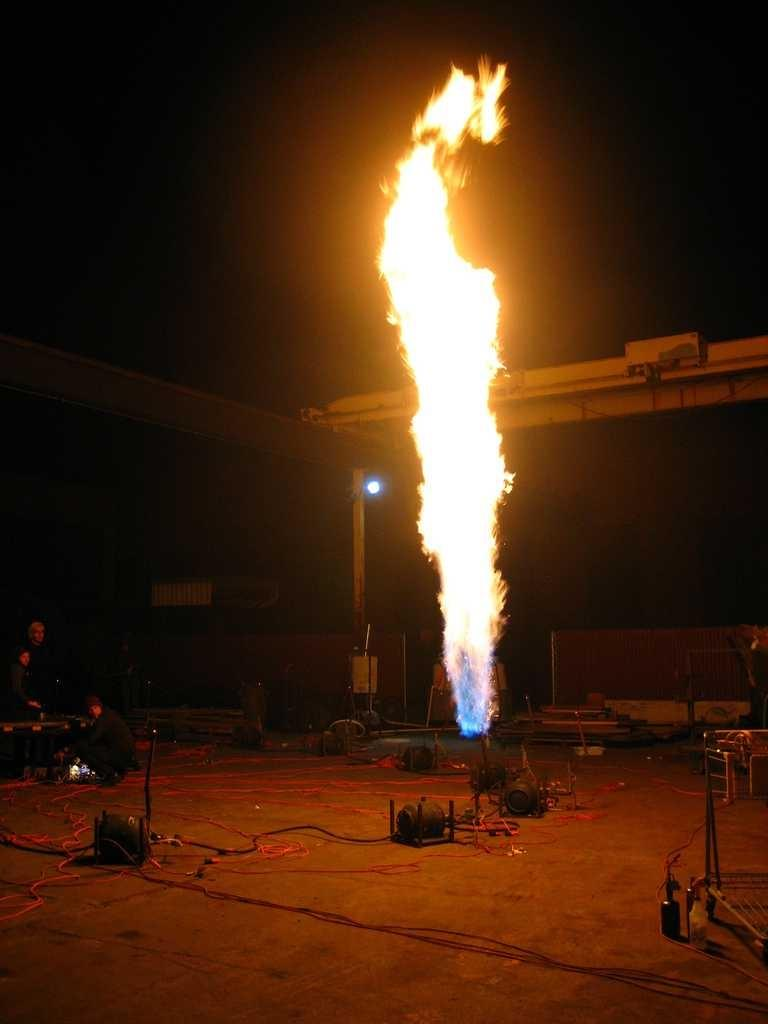fire: (432, 355, 485, 638), (398, 140, 442, 315)
